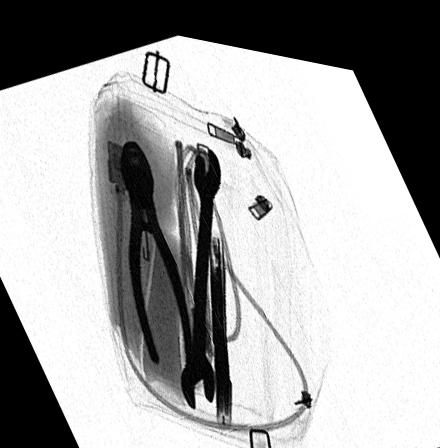Pliers: (118, 132, 197, 363)
Powerbank: (209, 223, 231, 415)
Wrench: (178, 139, 221, 399)
